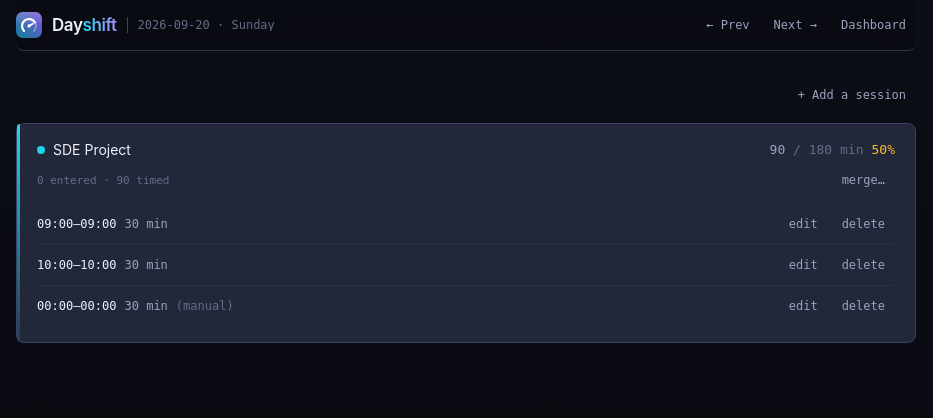
Test case: DayView undo › offers Undo after a delete and undoes it
Click the button "delete" in the row of "–09:00". click: (863, 224)
box: [832,212,895,236]
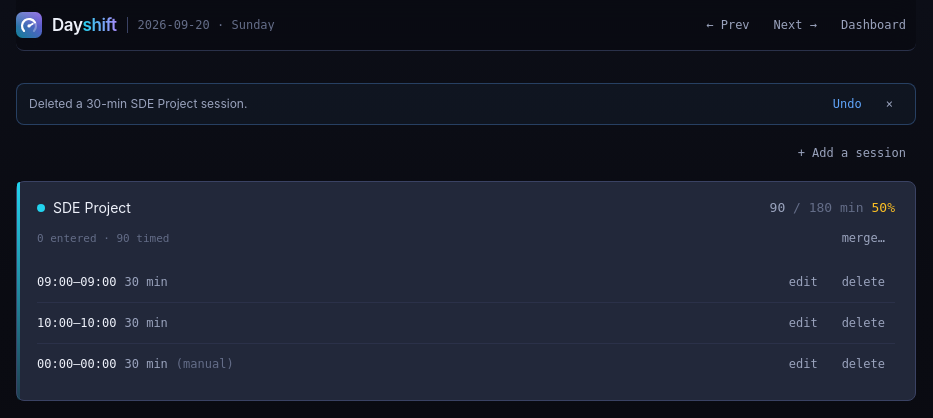
Result: the text "Deleted a 30-min SDE Project session." is shown at [29,95,247,113]
Click the button "Undo". click: (847, 104)
box: [823,92,872,116]
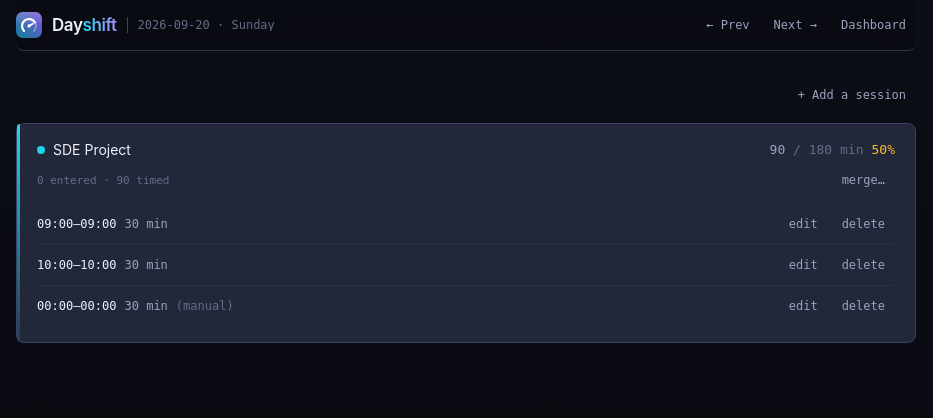
Result: the text "Deleted a 30-min" is gone
